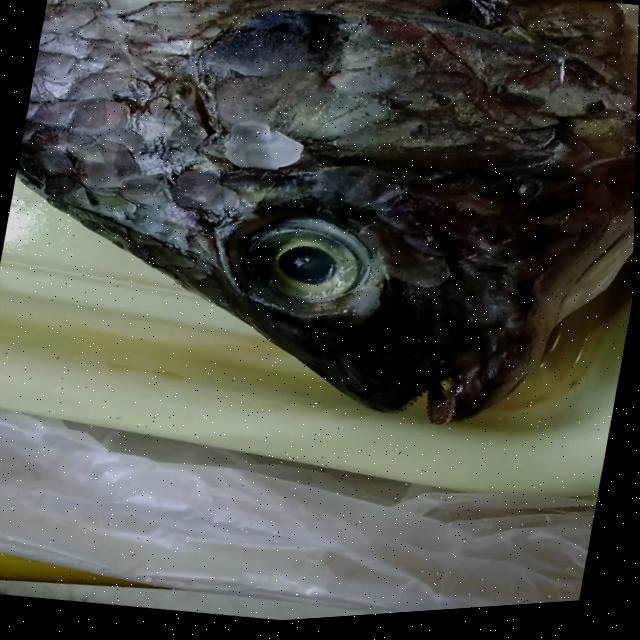Non-Fresh: (33, 0, 640, 269), (211, 196, 404, 344)
